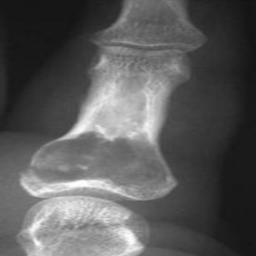cancer: (85, 73, 149, 141)
